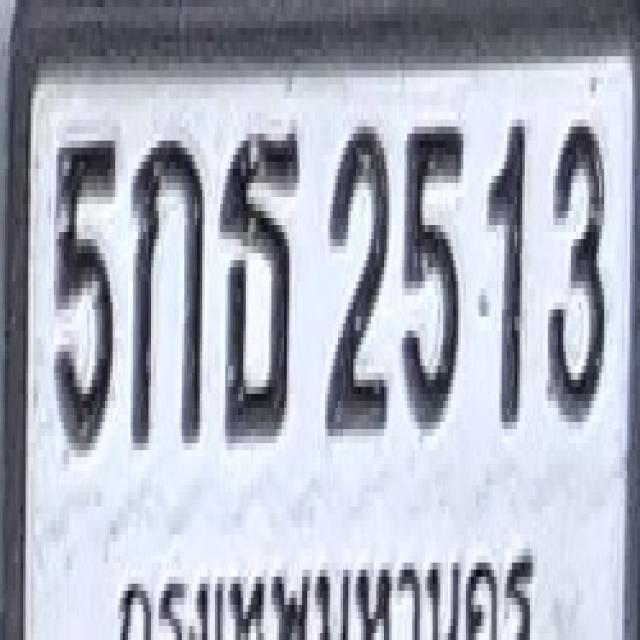1: (486, 116, 525, 426)
2: (324, 123, 388, 433)
3: (548, 120, 604, 422)
5: (54, 134, 115, 450), (401, 120, 462, 429)
A01: (131, 130, 202, 447)
A24: (219, 123, 298, 440)
